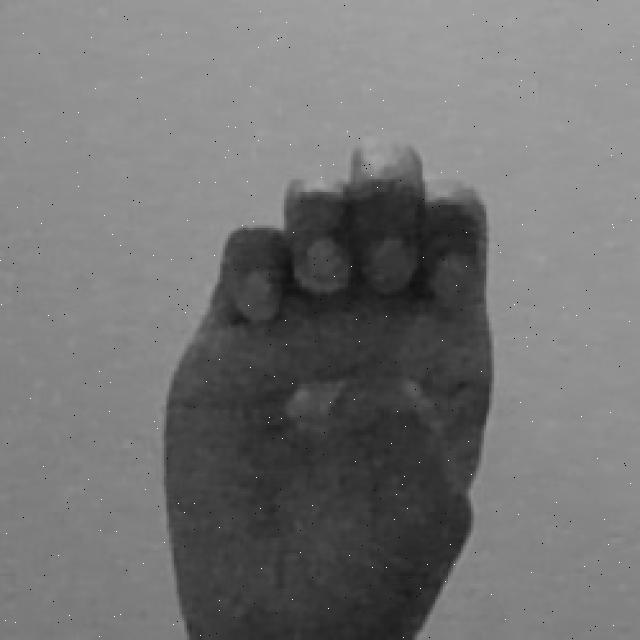E: (157, 130, 497, 640)
